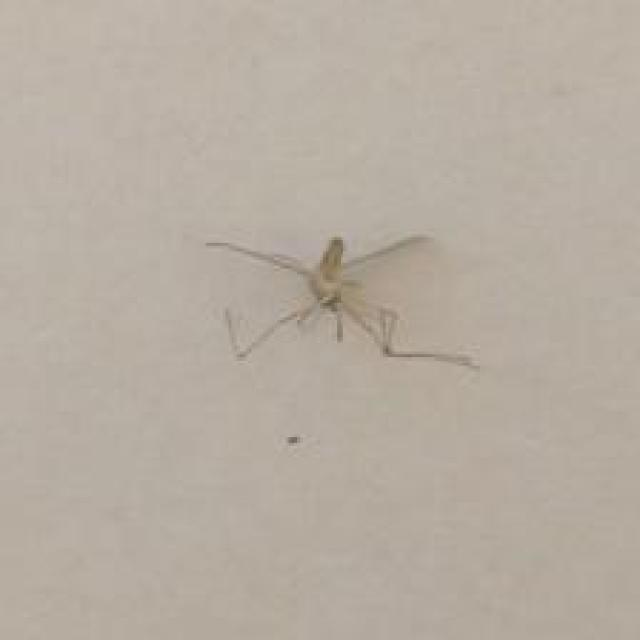Culex: (203, 228, 480, 372)
